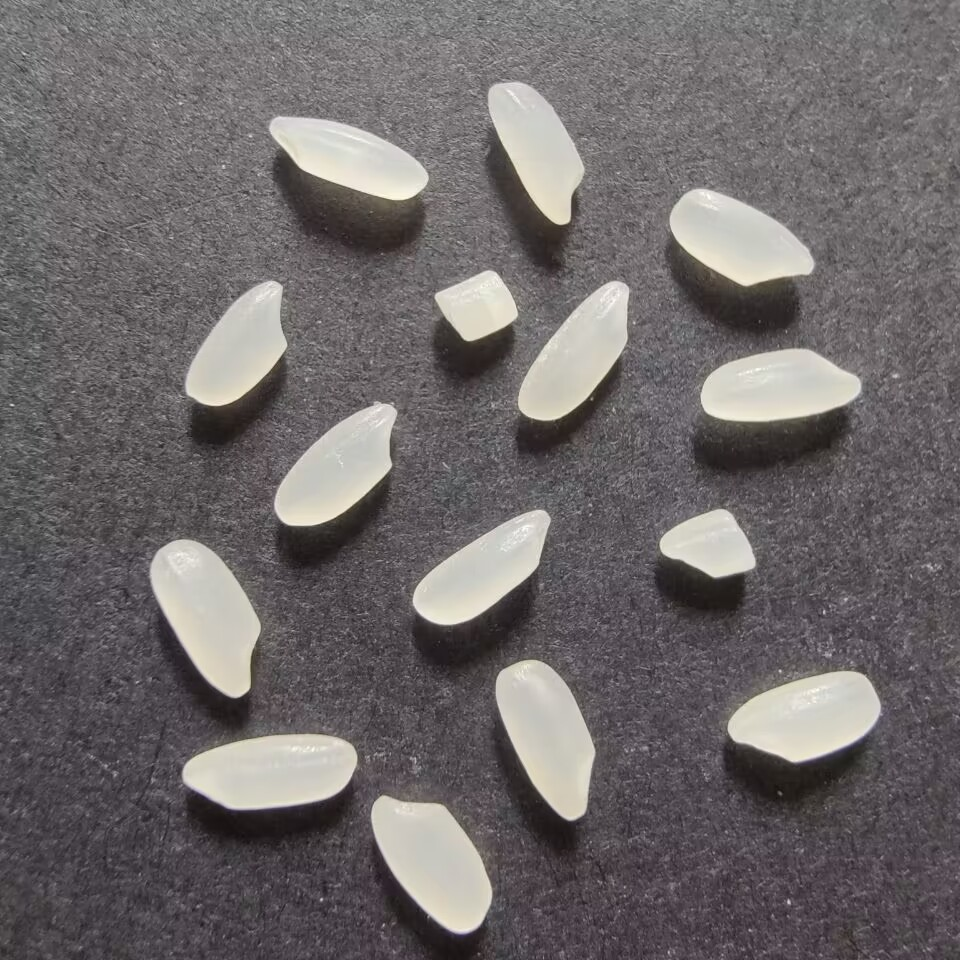broken: (654, 503, 762, 582), (428, 264, 522, 347)
rice: (491, 653, 606, 827), (146, 535, 265, 701), (366, 791, 498, 939), (406, 504, 554, 632), (514, 277, 637, 423), (267, 397, 401, 531), (262, 107, 432, 206), (483, 78, 592, 231), (721, 665, 887, 765), (175, 728, 363, 815), (659, 185, 817, 287), (180, 275, 294, 410), (690, 346, 866, 424)
